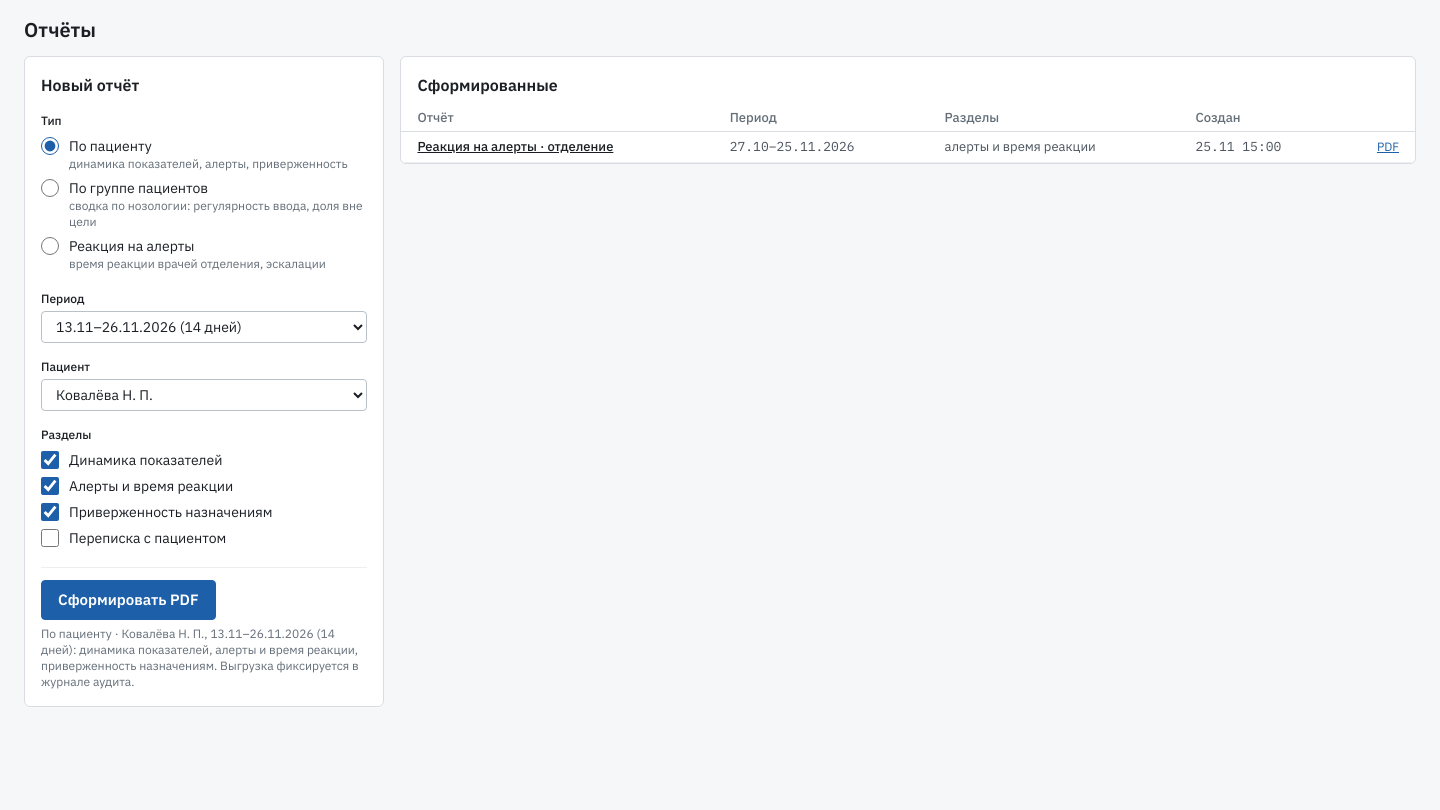
Scenario: Reports › не даёт сформировать отчёт без разделов
The image size is (1440, 810).
Click the checkbox labelled "Динамика показателей" at (50, 460), box [41, 451, 59, 469]
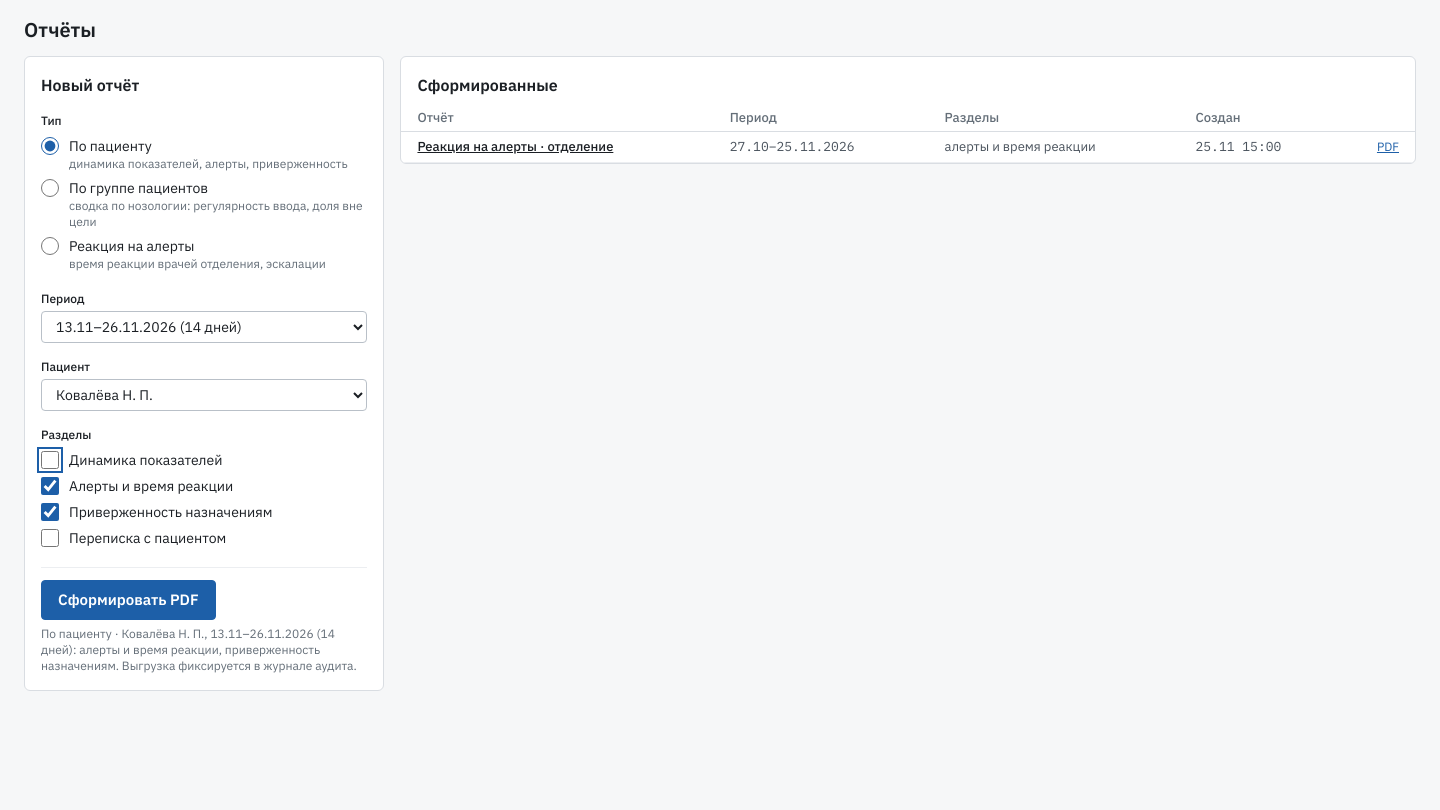
Click the checkbox labelled "Алерты и время реакции" at (50, 486), box [41, 477, 59, 495]
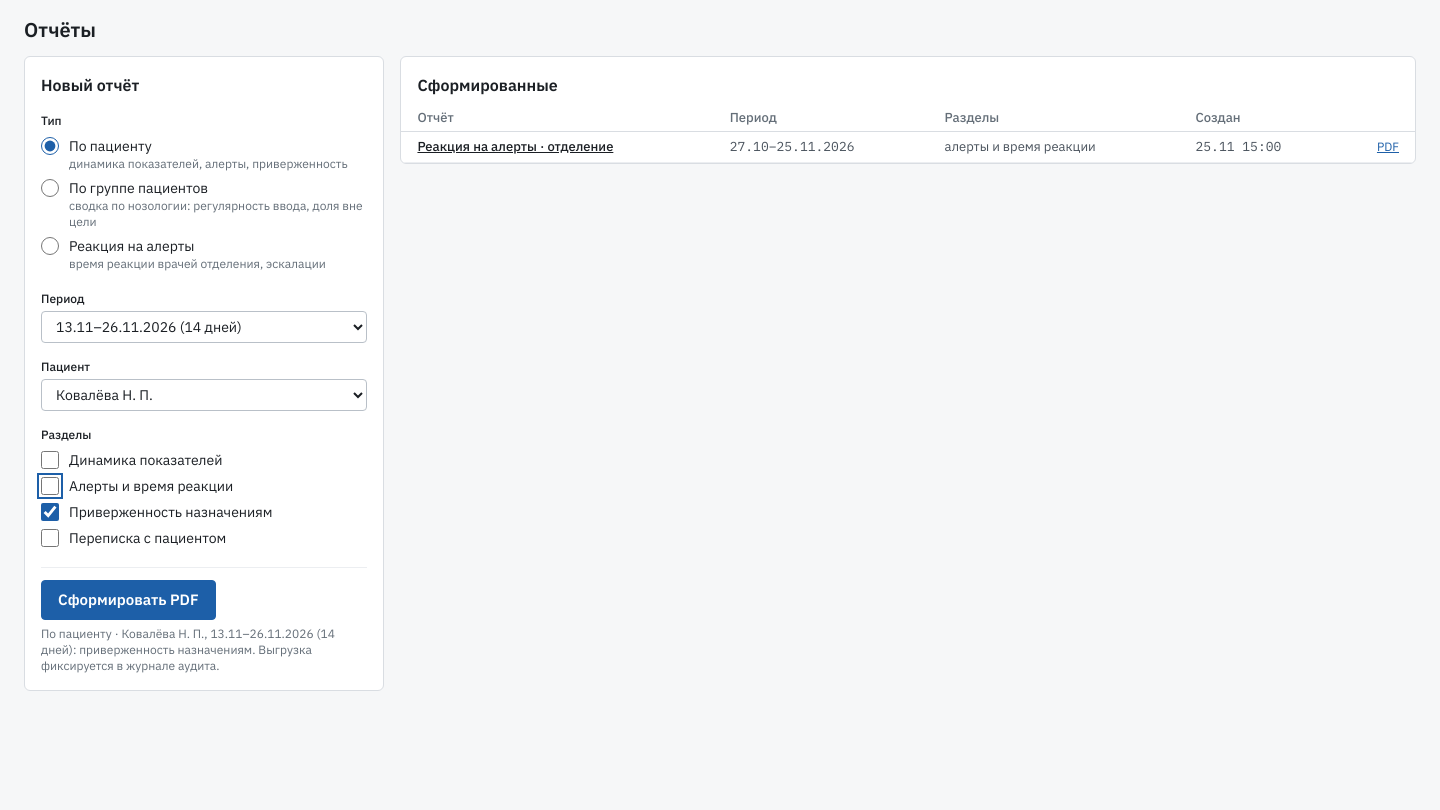
Click the checkbox labelled "Приверженность назначениям" at (50, 512), box [41, 503, 59, 521]
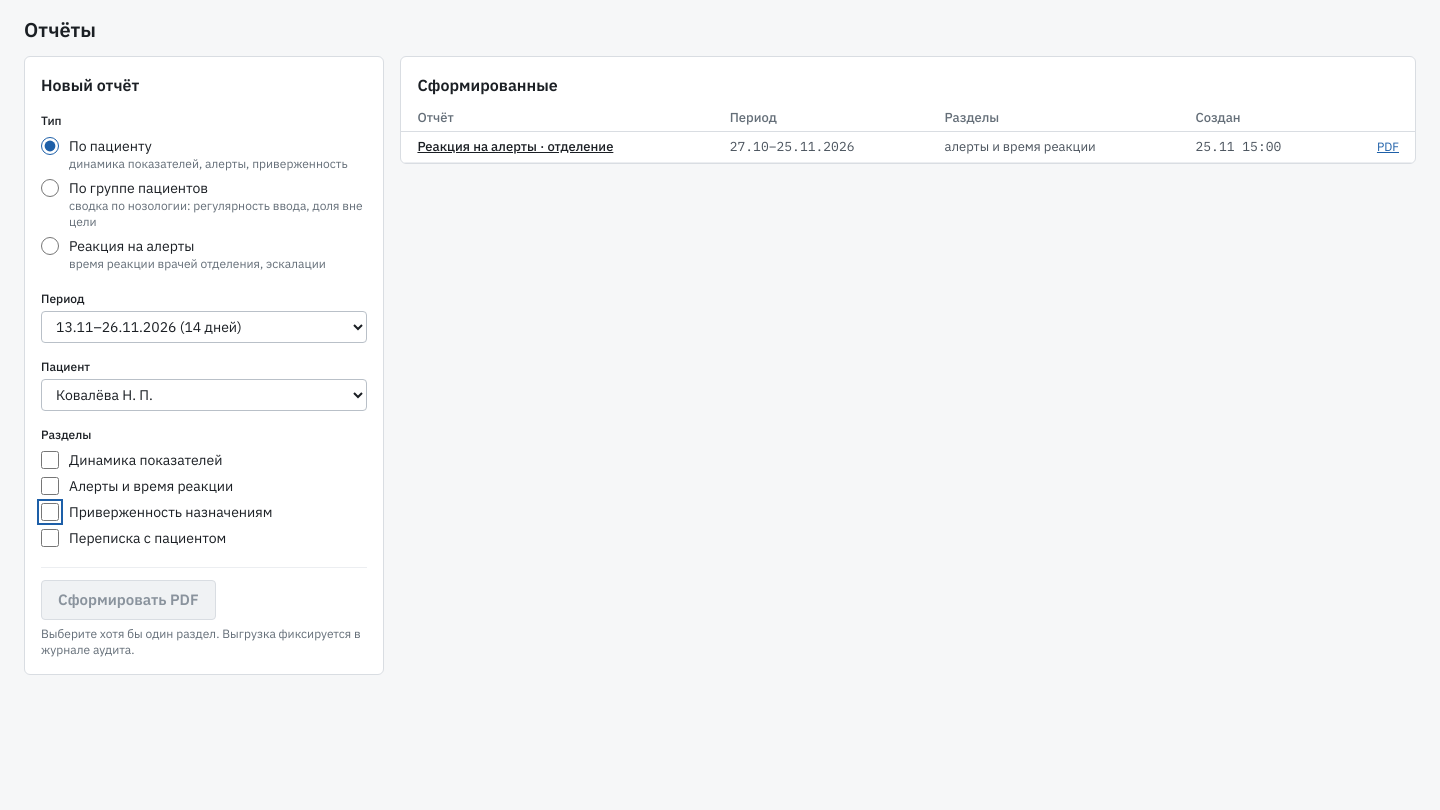
Now the text "Выберите хотя бы один раздел" is shown, box [41, 626, 216, 641]
Now the button "Сформировать PDF" is disabled, box [41, 580, 216, 620]
